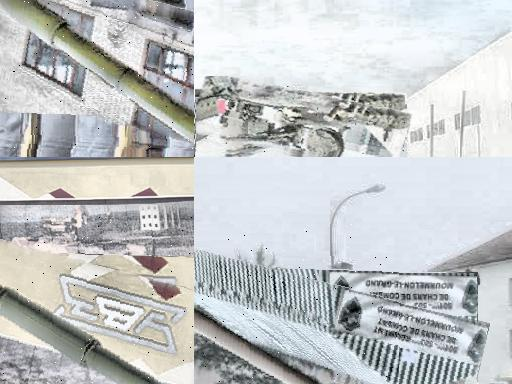tanks: (1, 1, 195, 144), (196, 77, 413, 156), (1, 287, 158, 384), (195, 308, 320, 384)
